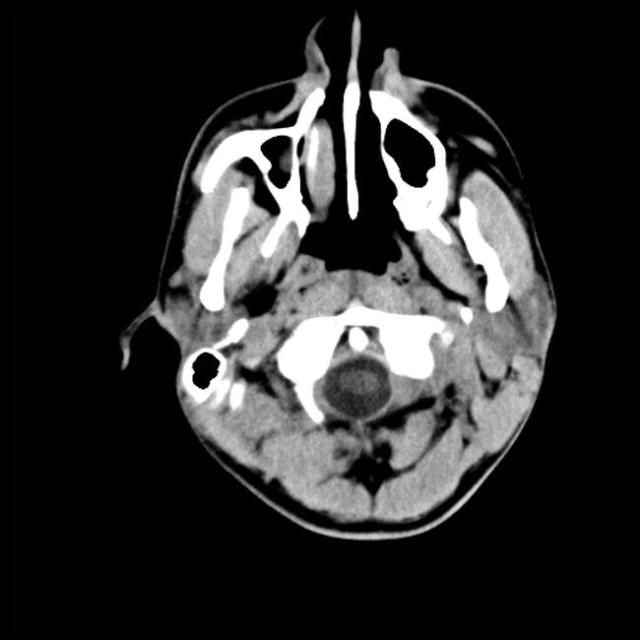lesion: (115, 9, 562, 541)
